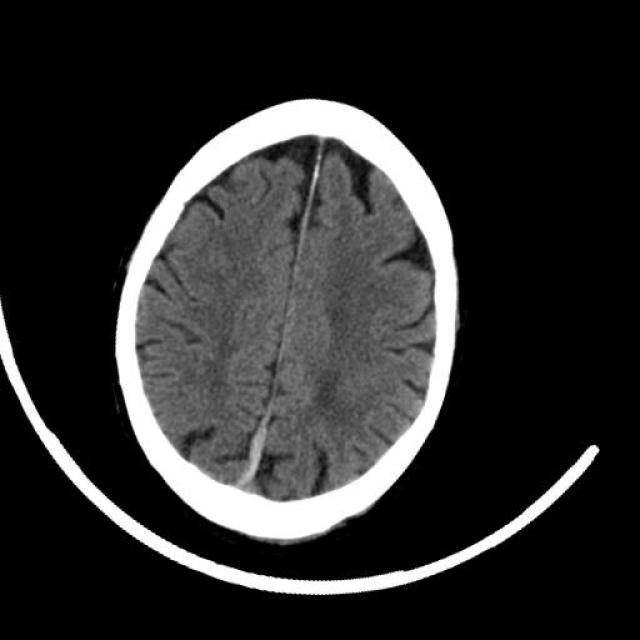Subdural: (186, 391, 302, 521)
